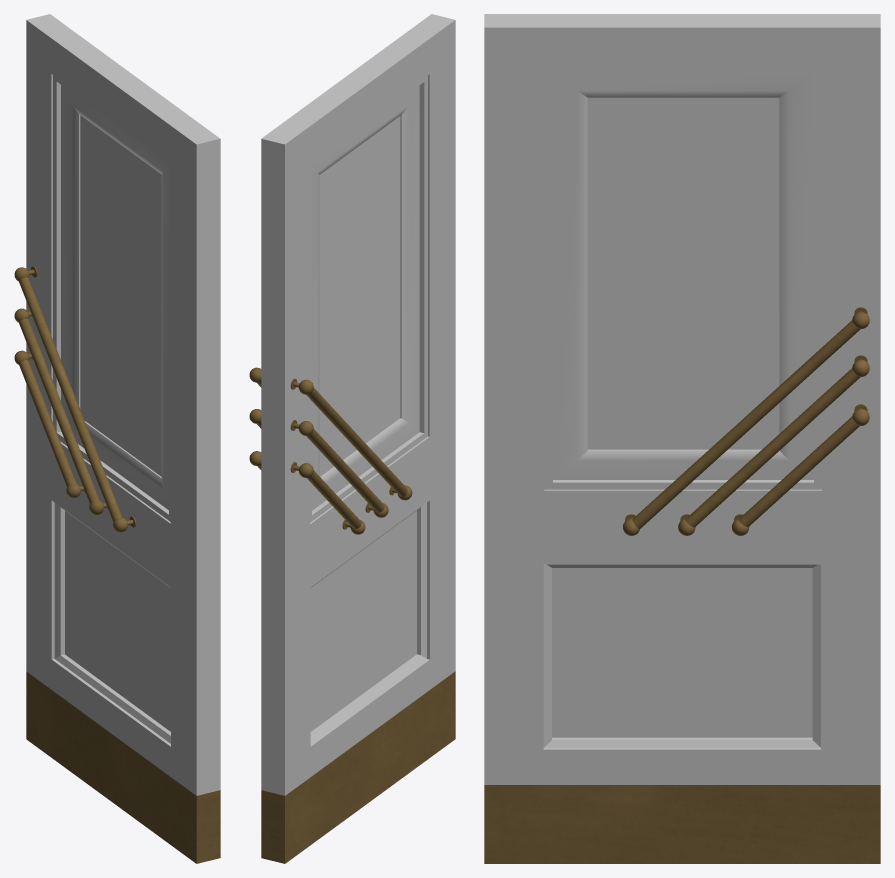
Rendered from SM_WD17_DOOR_2.fbx.
3 views of the same model, side by side, from view 1: azimuth 30°, elevation 25°; view 2: azimuth 150°, elevation 25°; view 3: azimuth 270°, elevation 25° (orthographic). The views are drawn at different scales.
Visible parts, largest first — view 1: SM_WD17_DOOR_2; view 2: SM_WD17_DOOR_2; view 3: SM_WD17_DOOR_2.
Part boxes in pixels (x1,y1,x2,y2): SM_WD17_DOOR_2: (14, 14, 220, 863); SM_WD17_DOOR_2: (249, 14, 455, 863); SM_WD17_DOOR_2: (484, 14, 880, 863).
Bounding box in the file's own units: 22.6 × 107 × 250.
